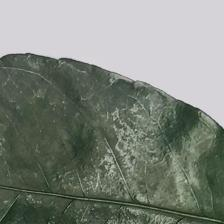healthy: (0, 48, 110, 224)
